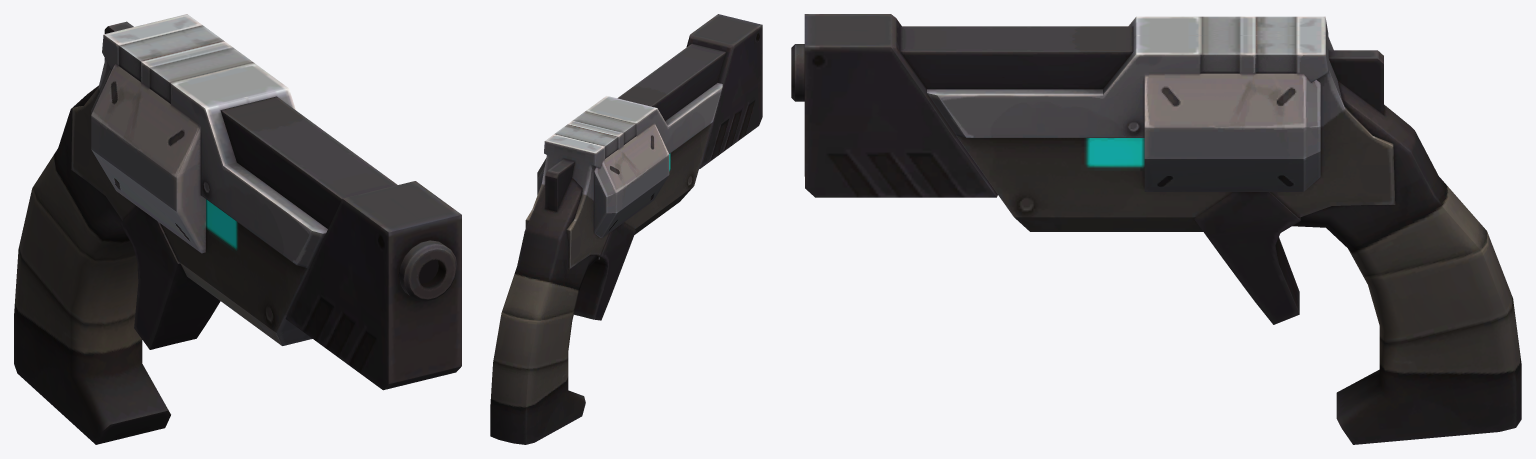
Rendered from Gun_Landsraad_TRUE_FBX.fbx.
3 renders of one model, left to right at view 1: azimuth 30°, elevation 25°; view 2: azimuth 150°, elevation 25°; view 3: azimuth 270°, elevation 25°, orthographic. The views are drawn at different scales.
Parts seen in each view (by area): view 1: Gun_Landsraad; view 2: Gun_Landsraad; view 3: Gun_Landsraad.
Boxes of the visible parts, <box> form: Gun_Landsraad: <box>14,14,461,444</box>; Gun_Landsraad: <box>490,14,762,444</box>; Gun_Landsraad: <box>791,14,1521,444</box>.
Size of the model in its own units: 0.1277 by 0.6581 by 0.3965.
